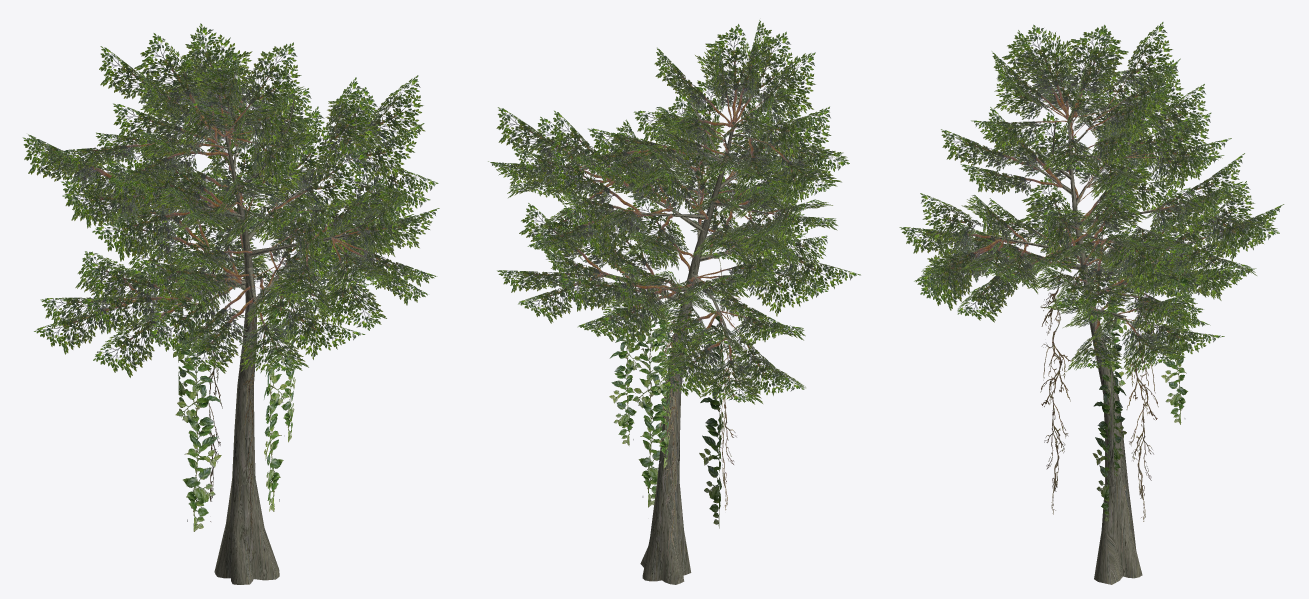
Rendered from cecropia.glb.
The picture shows the model from 3 angles, left to right: view 1: azimuth 30°, elevation 25°; view 2: azimuth 150°, elevation 25°; view 3: azimuth 270°, elevation 25°; orthographic projection. The views are drawn at different scales.
Visible parts, largest first — view 1: cecropia; view 2: cecropia; view 3: cecropia.
Boxes of the visible parts, x1,y1,x2,y2 form: cecropia: (22,23,439,584); cecropia: (488,20,860,584); cecropia: (899,22,1284,584).
Size of the model in its own units: 8.37 by 12.03 by 8.28.
Materials: 4 (4 with a texture image).
